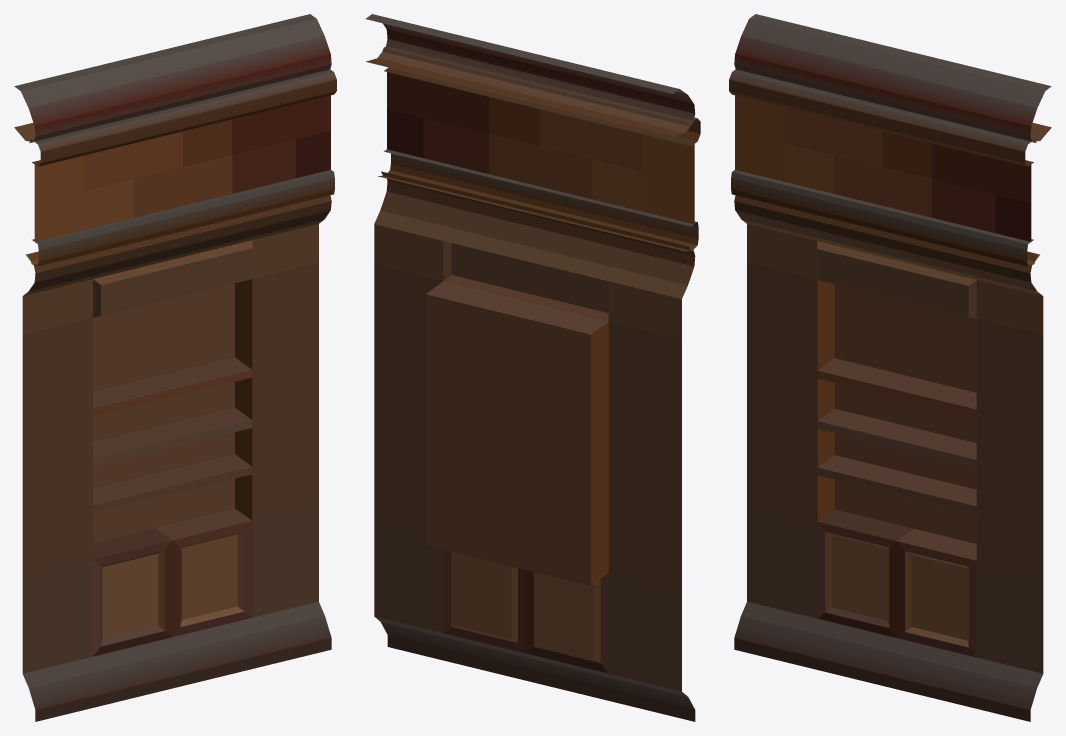
Rendered from Wall_HomeA-PanelD-2m.fbx.
The picture shows the model from 3 angles, left to right: view 1: azimuth 30°, elevation 25°; view 2: azimuth 150°, elevation 25°; view 3: azimuth 330°, elevation 25°; orthographic projection. The views are drawn at different scales.
Parts seen in each view (by area): view 1: Wall_HomeA-PanelD-2m; view 2: Wall_HomeA-PanelD-2m; view 3: Wall_HomeA-PanelD-2m.
Part boxes in pixels (box(x1,y1,x2,y2)): Wall_HomeA-PanelD-2m: box(14, 14, 336, 721); Wall_HomeA-PanelD-2m: box(366, 14, 700, 721); Wall_HomeA-PanelD-2m: box(729, 14, 1051, 721).
Size of the model in its own units: 200 by 400 by 41.15.
